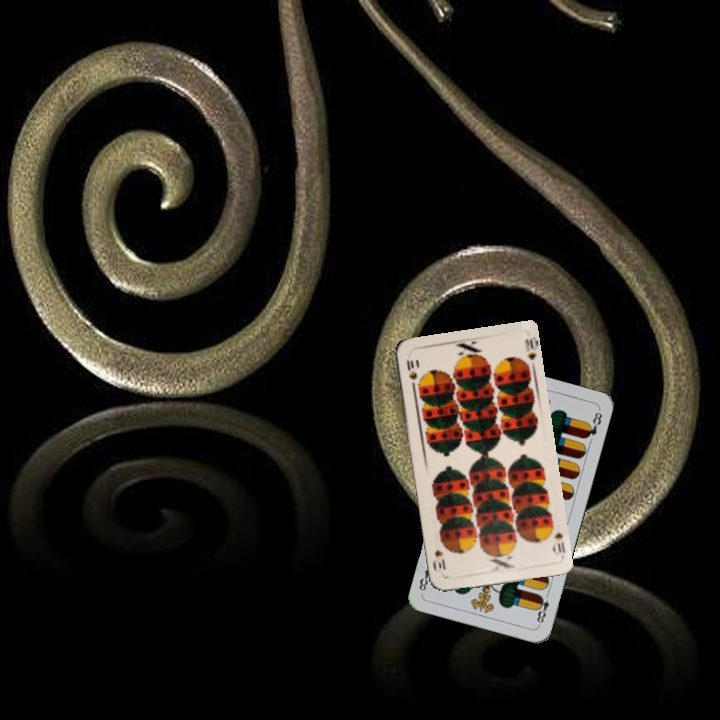E8: (532, 588, 552, 628)
S10: (402, 355, 420, 392), (548, 527, 568, 558)
